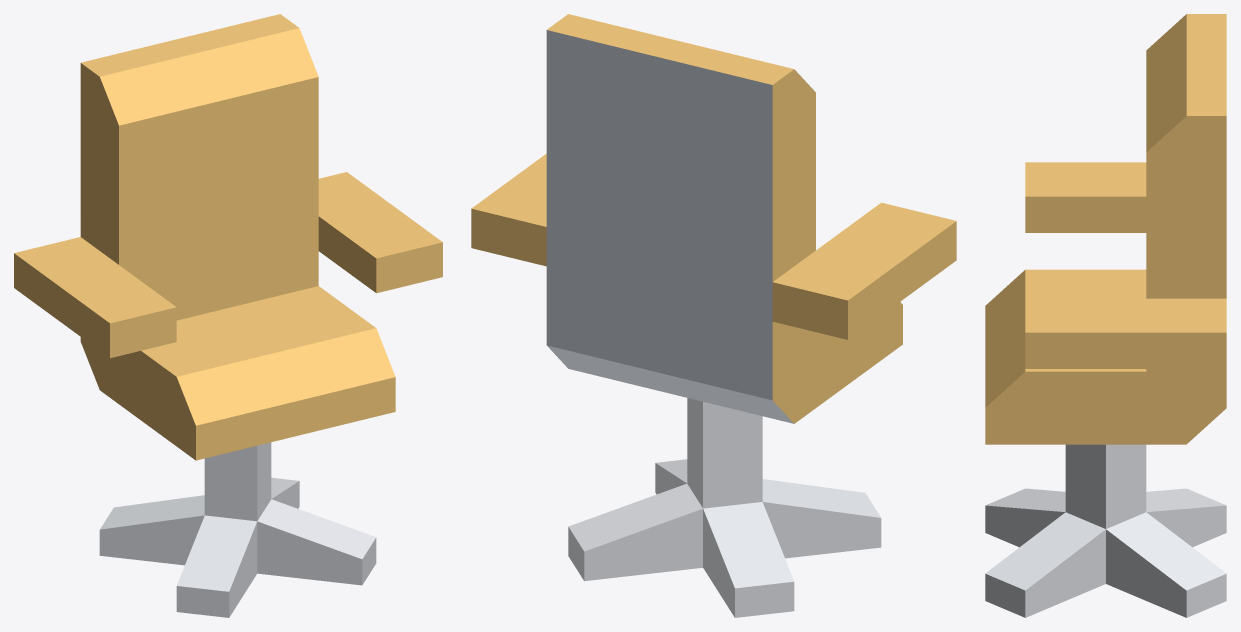
The model's file is desk_chairArms.glb.
3 renders of one model, left to right at view 1: azimuth 30°, elevation 25°; view 2: azimuth 150°, elevation 25°; view 3: azimuth 270°, elevation 25°, orthographic. The views are drawn at different scales.
Visible parts, largest first — view 1: desk_chairArms; view 2: desk_chairArms; view 3: desk_chairArms.
Boxes of the visible parts, x1,y1,x2,y2 form: desk_chairArms: (14, 14, 442, 617); desk_chairArms: (471, 14, 956, 617); desk_chairArms: (985, 14, 1226, 617).
Bounding box in the file's own units: 0.25 × 0.3438 × 0.15.
